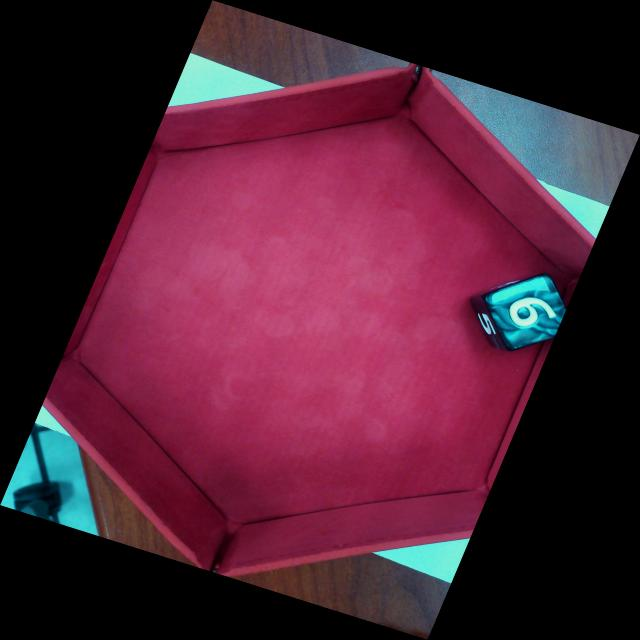dice: (485, 274, 567, 351)
